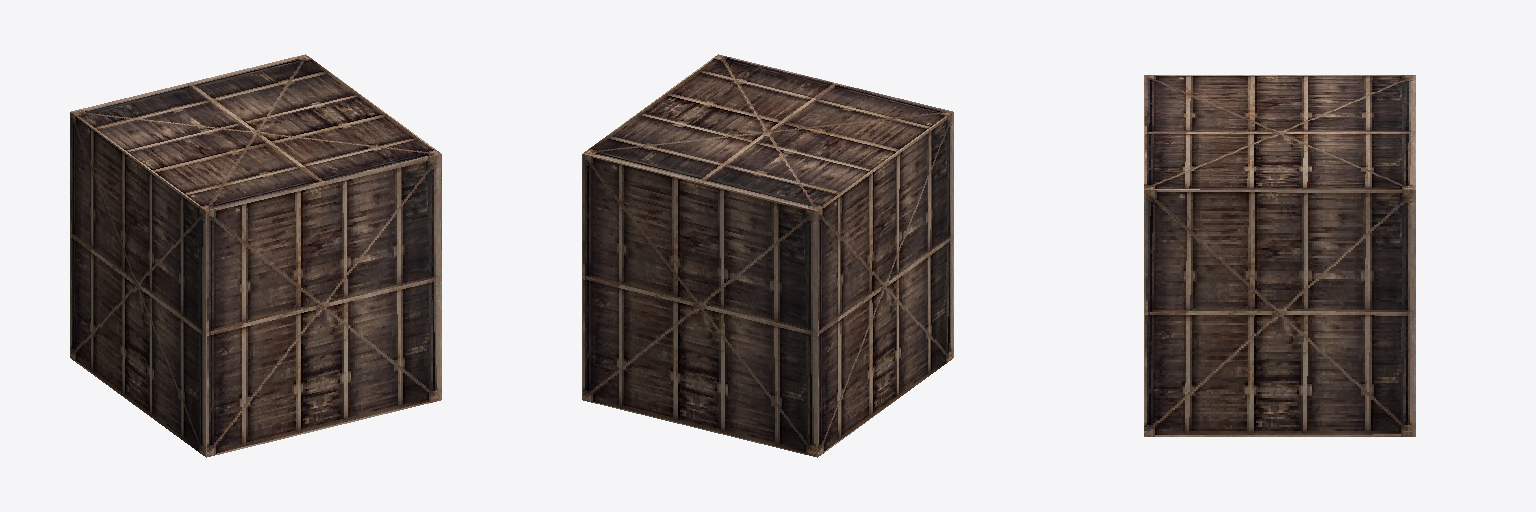
The picture shows the model from 3 angles: view 1: azimuth 30°, elevation 25°; view 2: azimuth 150°, elevation 25°; view 3: azimuth 270°, elevation 25°; orthographic projection.
Parts seen in each view (by area): view 1: Cube; view 2: Cube; view 3: Cube.
Part boxes in pixels (left/top/right/bottom): Cube: left=70, top=54, right=441, bottom=457; Cube: left=582, top=54, right=953, bottom=457; Cube: left=1144, top=75, right=1415, bottom=436.
Bounding box in the file's own units: 2 × 2 × 2.
Materials: 1 (1 with a texture image).